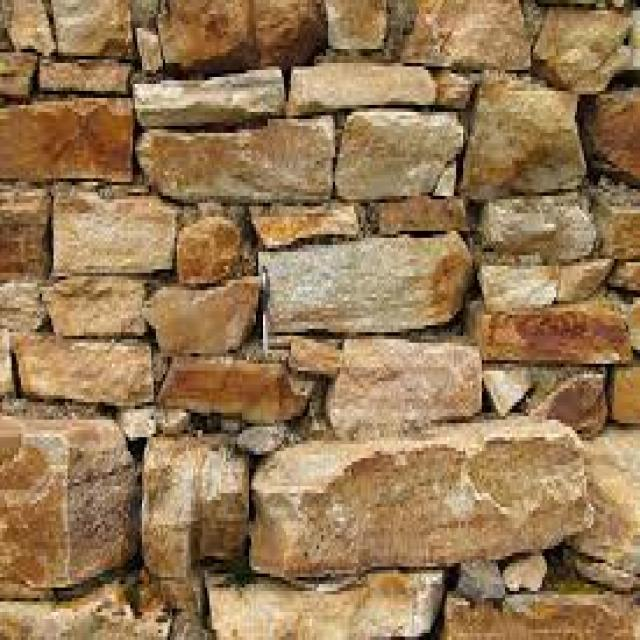Metamorphic: (2, 4, 631, 626)
